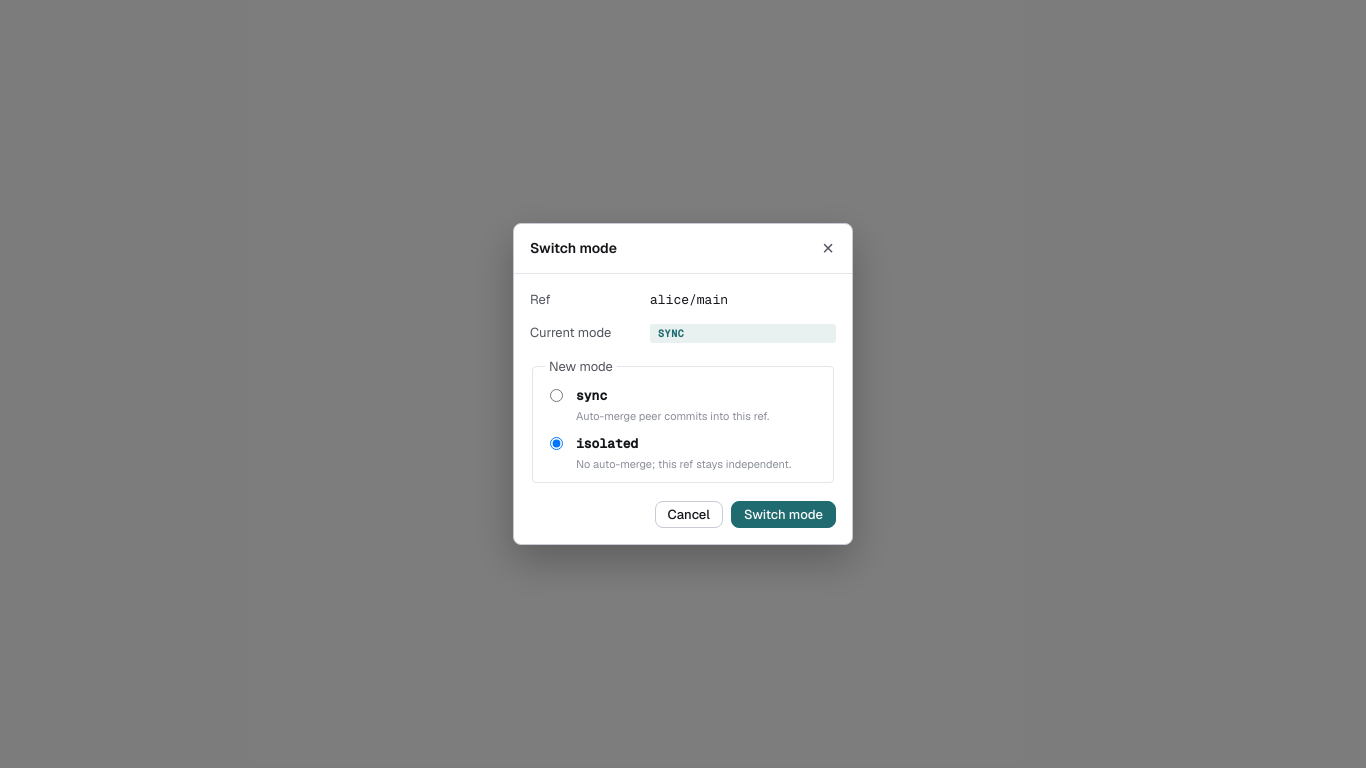
Scenario: ModeSwitchDialog › submit button is disabled when selected mode equals current mode
Switch back to sync (which is the current mode)
Click the radio button showing "sync" at point(556, 396), box top-left (550, 389), bottom-right (563, 402)
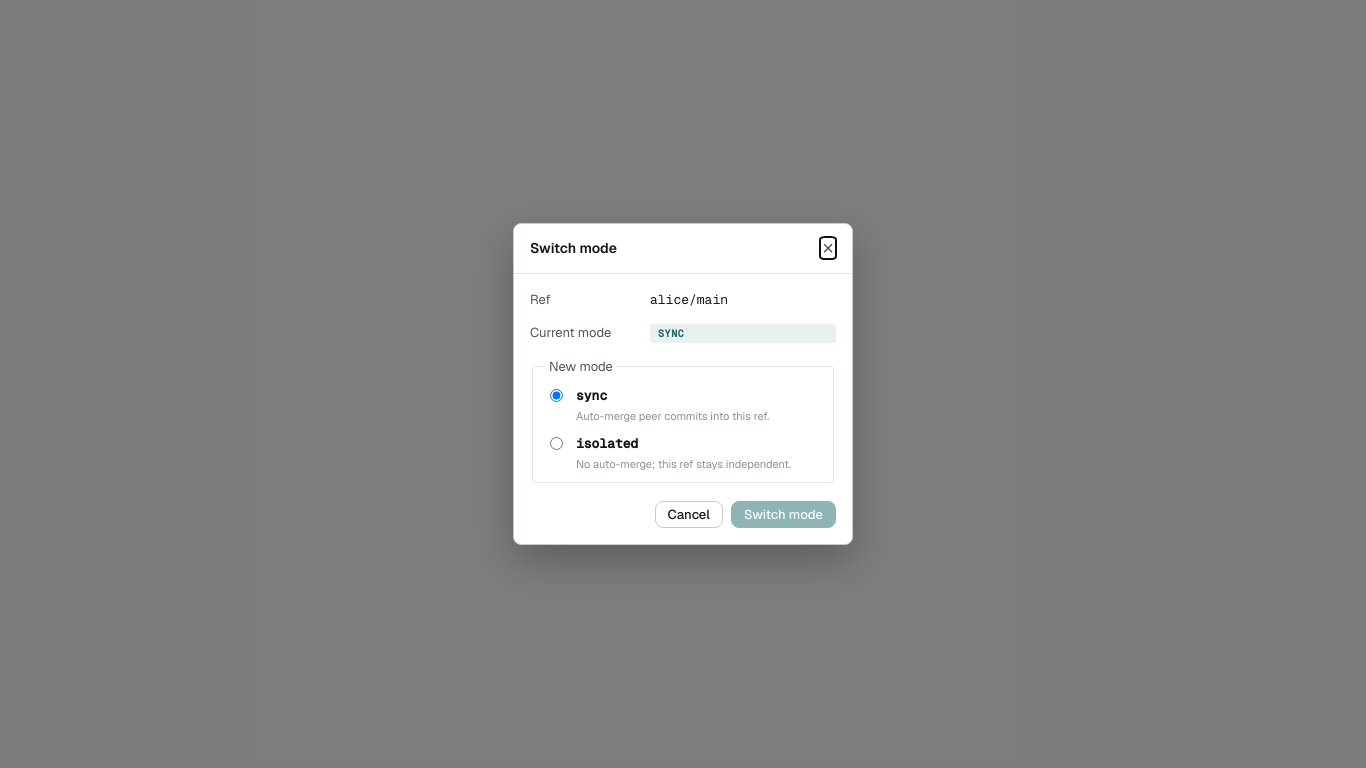
Expected: the button "Switch mode" is disabled, top-left (731, 501), bottom-right (836, 528)
